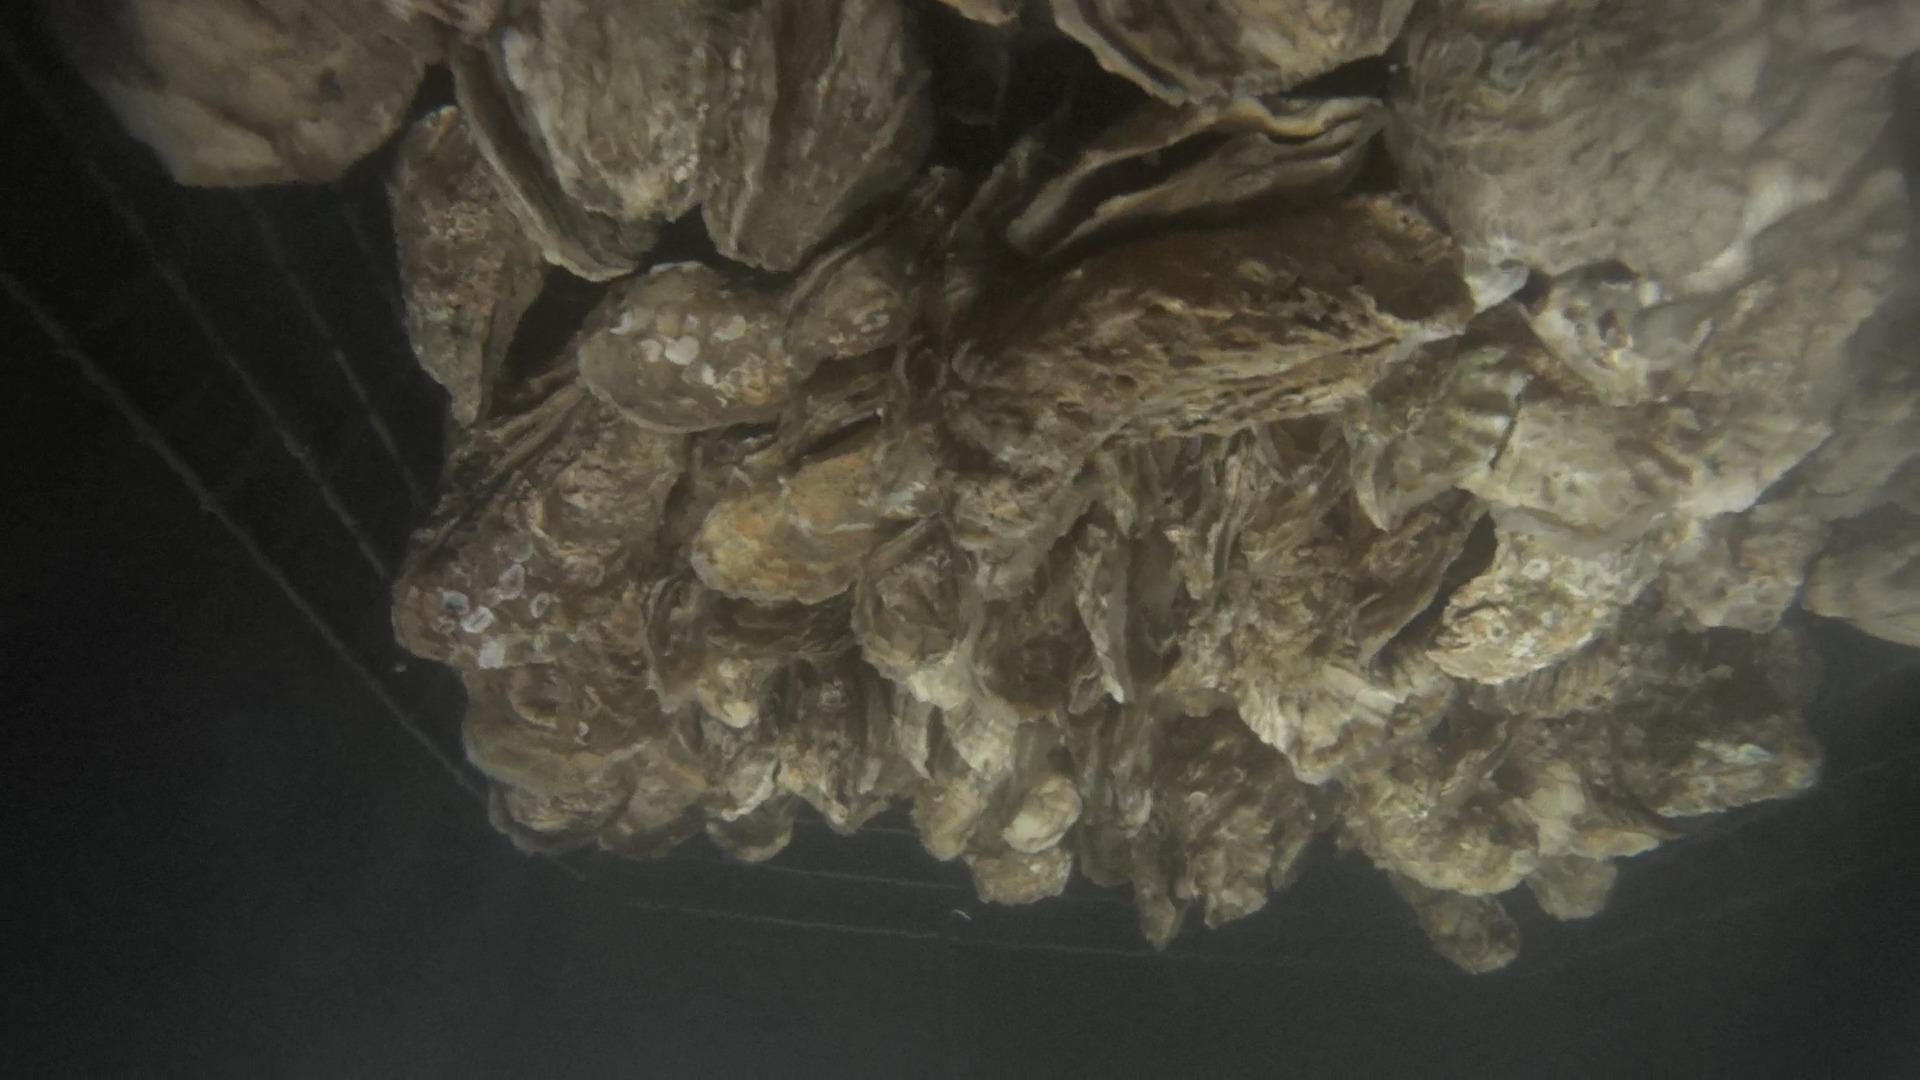3: (1006, 94, 1386, 258), (702, 0, 932, 269), (448, 40, 655, 280), (488, 0, 712, 220), (1054, 0, 1414, 103), (1356, 489, 1499, 694), (785, 240, 913, 375)
Oyster- Indeterminate: (1393, 0, 1920, 295), (394, 386, 688, 670), (1168, 525, 1455, 785), (49, 0, 436, 185), (1462, 396, 1832, 530), (1349, 303, 1556, 529), (690, 421, 938, 604), (462, 583, 665, 796), (578, 261, 798, 431), (1431, 530, 1665, 683), (767, 646, 919, 832), (1166, 425, 1283, 600), (852, 529, 980, 682), (1391, 872, 1522, 973), (1073, 513, 1135, 702), (943, 688, 1019, 781), (911, 775, 986, 860), (965, 847, 1073, 905), (1004, 774, 1081, 853), (1527, 855, 1619, 920), (891, 684, 934, 778)
Oyster-Closed: (942, 194, 1474, 473), (388, 104, 543, 426)
